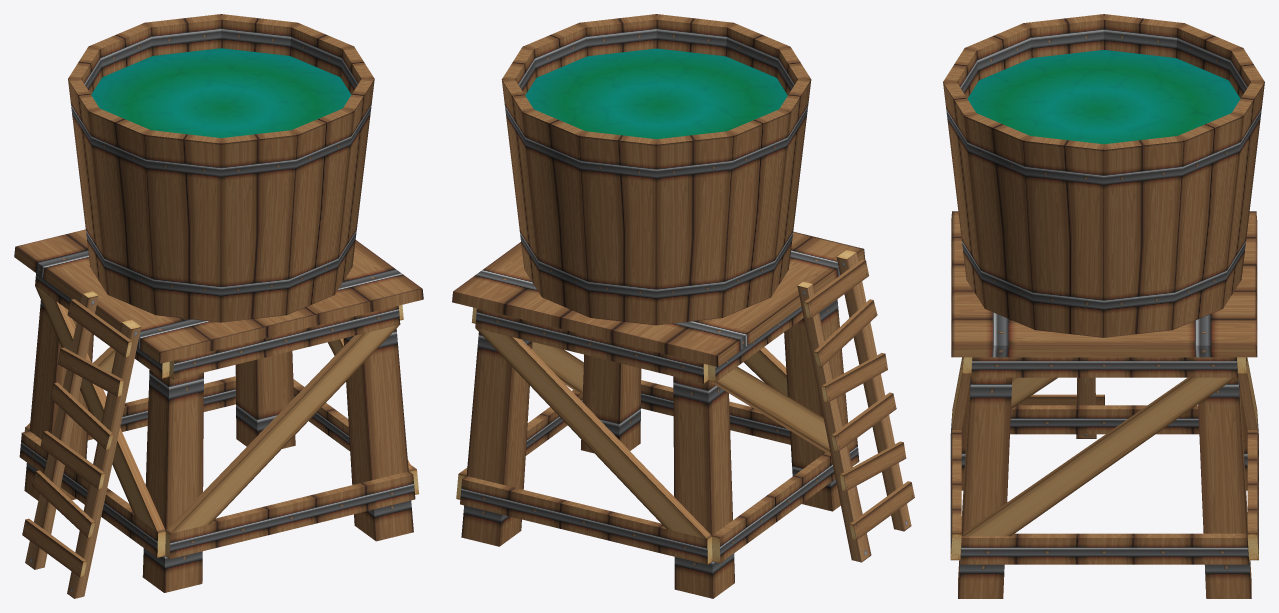
File: Tank_01.FBX
3 views of the same model, side by side, from view 1: azimuth 30°, elevation 25°; view 2: azimuth 150°, elevation 25°; view 3: azimuth 270°, elevation 25° (orthographic). The views are drawn at different scales.
Visible parts, largest first — view 1: Tank, Base, Ladder; view 2: Tank, Base, Ladder; view 3: Tank, Base, Ladder.
Part boxes in pixels (x1=…): Tank: x1=68, y1=14, x2=374, y2=322; Base: x1=14, y1=229, x2=423, y2=592; Ladder: x1=22, y1=291, x2=141, y2=598; Tank: x1=501, y1=14, x2=811, y2=325; Base: x1=452, y1=231, x2=865, y2=598; Ladder: x1=797, y1=250, x2=914, y2=562; Tank: x1=943, y1=14, x2=1264, y2=337; Base: x1=950, y1=211, x2=1258, y2=598; Ladder: x1=1017, y1=377, x2=1104, y2=438.
Bounding box in the file's own units: 3.88 × 4.82 × 3.1.
